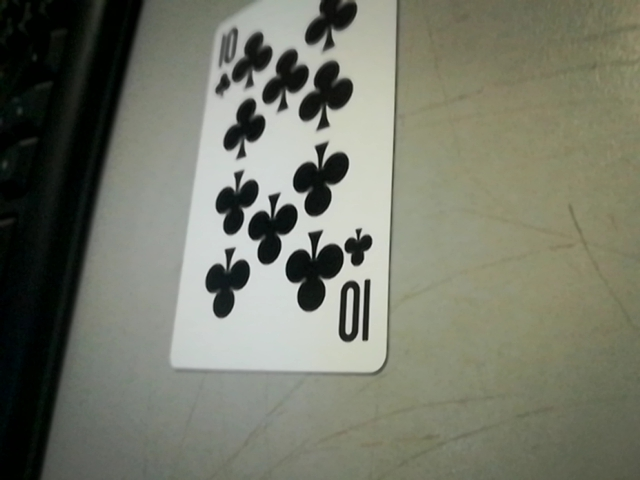mh 10: (333, 228, 387, 358)
